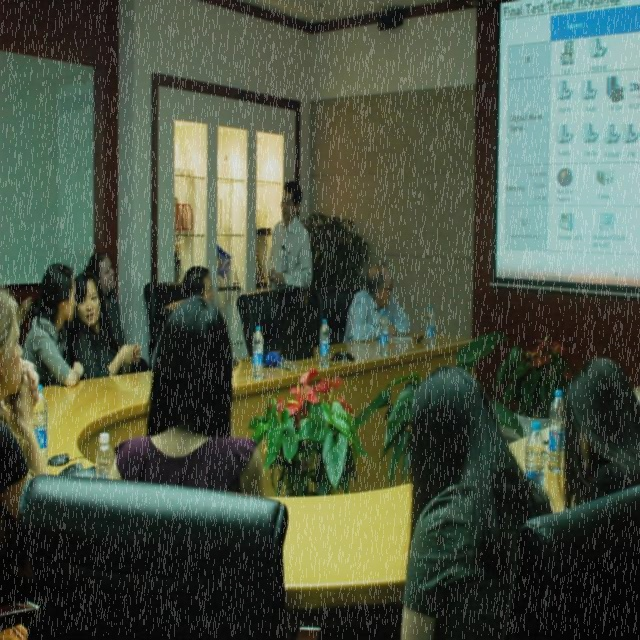pessoa: (398, 362, 554, 640), (109, 296, 268, 498), (556, 354, 640, 516), (82, 252, 150, 374), (68, 270, 142, 380), (20, 262, 84, 389), (266, 180, 314, 349), (150, 265, 216, 376), (342, 264, 411, 344)
